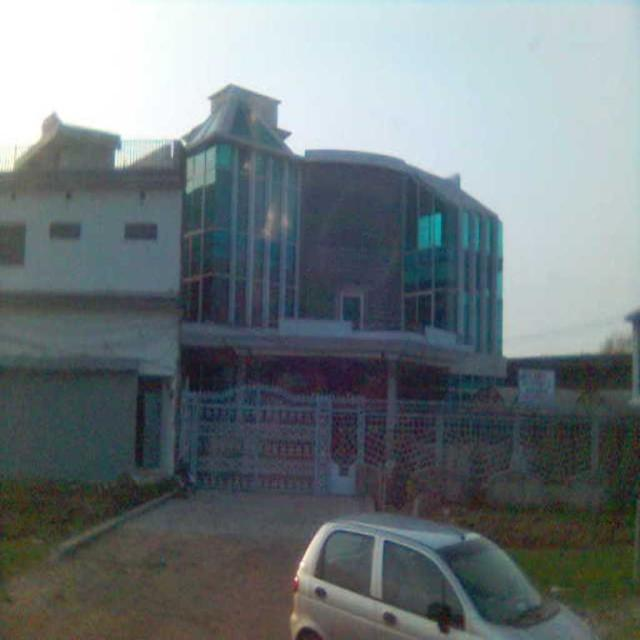car: (280, 510, 550, 639)
